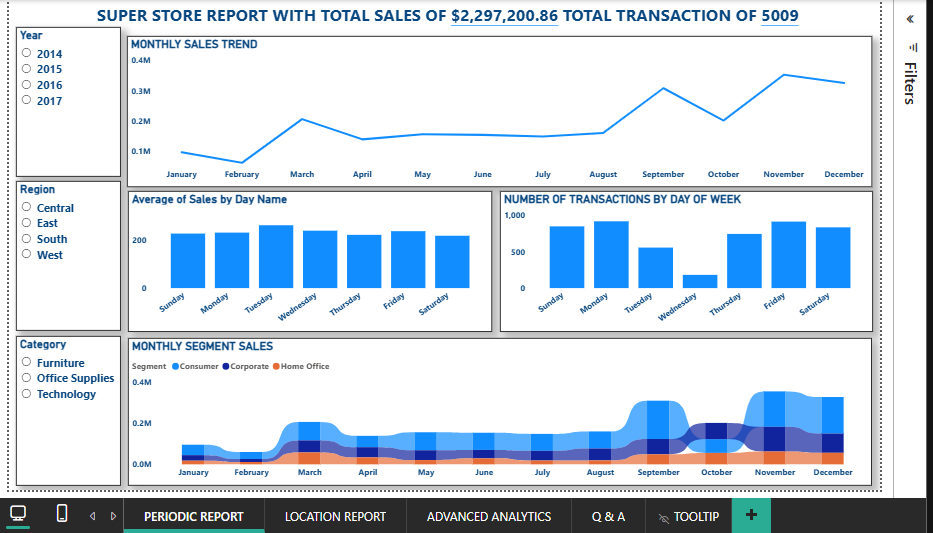

Layout of this report page (visuals, bound fields, positions):
{"tool":"powerbi","page":{"name":"PERIODIC REPORT","canvas":[1280,720],"ordinal":0},"visuals":[{"type":"textbox","box":[10.5,0,1269.5,79],"z":0},{"type":"listSlicer","fields":{"Values":["Shipping Dimension.Order Date.Variation.Date Hierarchy.Year"]},"box":[10.7,39.3,153.7,219.9],"z":1000},{"type":"listSlicer","fields":{"Values":["Customer Dimension.Region"]},"box":[10.7,266.4,153.7,219.9],"z":2000},{"type":"listSlicer","fields":{"Values":["Product Dimension.Category"]},"box":[10.7,493.4,153.7,219.9],"z":3000},{"type":"lineChart","title":"MONTHLY SALES TREND","fields":{"Category":["Shipping Dimension.Order Date.Variation.Date Hierarchy.Month"],"Y":["Sum(FACT.Sales)"]},"box":[173.3,53.3,1095,221.7],"z":4000},{"type":"columnChart","fields":{"Category":["Shipping Dimension.Day Name"],"Y":["Avg(FACT.Sales)"]},"box":[175,280,535,206.7],"z":5000},{"type":"columnChart","title":"NUMBER OF TRANSACTIONS BY DAY OF WEEK","fields":{"Category":["Shipping Dimension.Day Name"],"Y":["CountNonNull(Shipping Dimension.Order ID)"]},"box":[721.7,280,548.3,206.7],"z":6000},{"type":"ribbonChart","title":"MONTHLY SEGMENT SALES","fields":{"Category":["Shipping Dimension.Order Date.Variation.Date Hierarchy.Month"],"Y":["Sum(FACT.Sales)"],"Series":["Customer Dimension.Segment"]},"box":[175,496.7,1093.3,216.7],"z":7000}]}

Visuals, with their boxes on the page's 1280x720 design canvas (x1, y1, x2, y2). These are canvas units, not pixel positions in the 933x533 screenshot, which may show the page scaled, cropped or inside an application window:
textbox: (10, 0, 1280, 79)
listSlicer - Shipping Dimension.Order Date.Variation.Date Hierarchy.Year: (11, 39, 164, 259)
listSlicer - Customer Dimension.Region: (11, 266, 164, 486)
listSlicer - Product Dimension.Category: (11, 493, 164, 713)
"MONTHLY SALES TREND" lineChart: (173, 53, 1268, 275)
columnChart - Shipping Dimension.Day Name x Avg(FACT.Sales): (175, 280, 710, 487)
"NUMBER OF TRANSACTIONS BY DAY OF WEEK" columnChart: (722, 280, 1270, 487)
"MONTHLY SEGMENT SALES" ribbonChart: (175, 497, 1268, 713)
